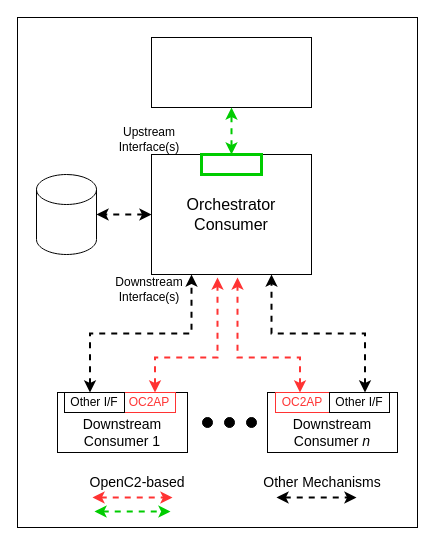
Image size: 435x545. Some labels were removed from this diagram. Here are the shapes that lost their labels. From the top down, the centre of each, then its label:
At pixel 231 72: "Upstream Producer".
At pixel 231 164: "PAC AP".
